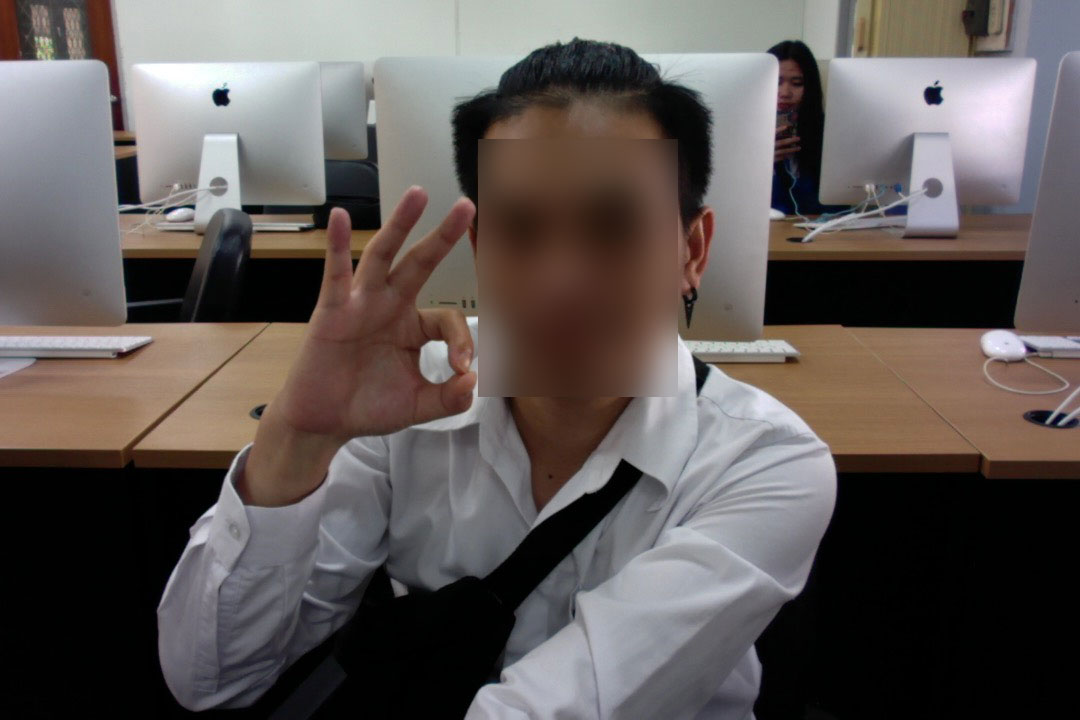for: (261, 162, 487, 494)
